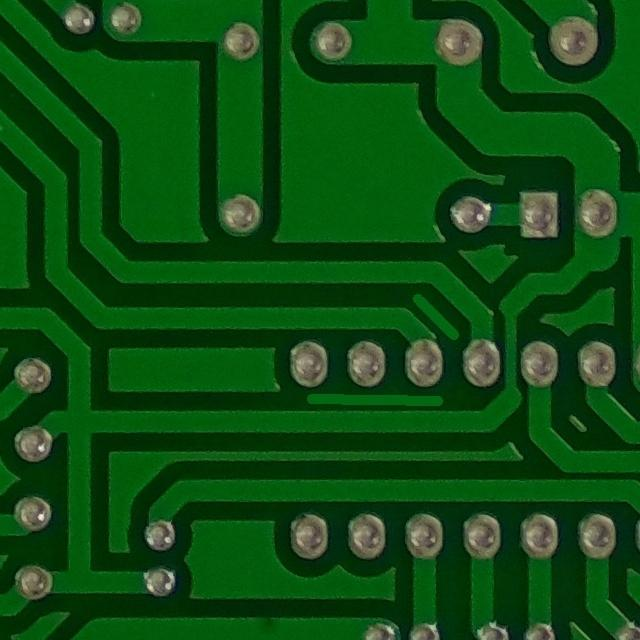spurious_copper: (294, 380, 454, 421), (400, 285, 466, 354)
